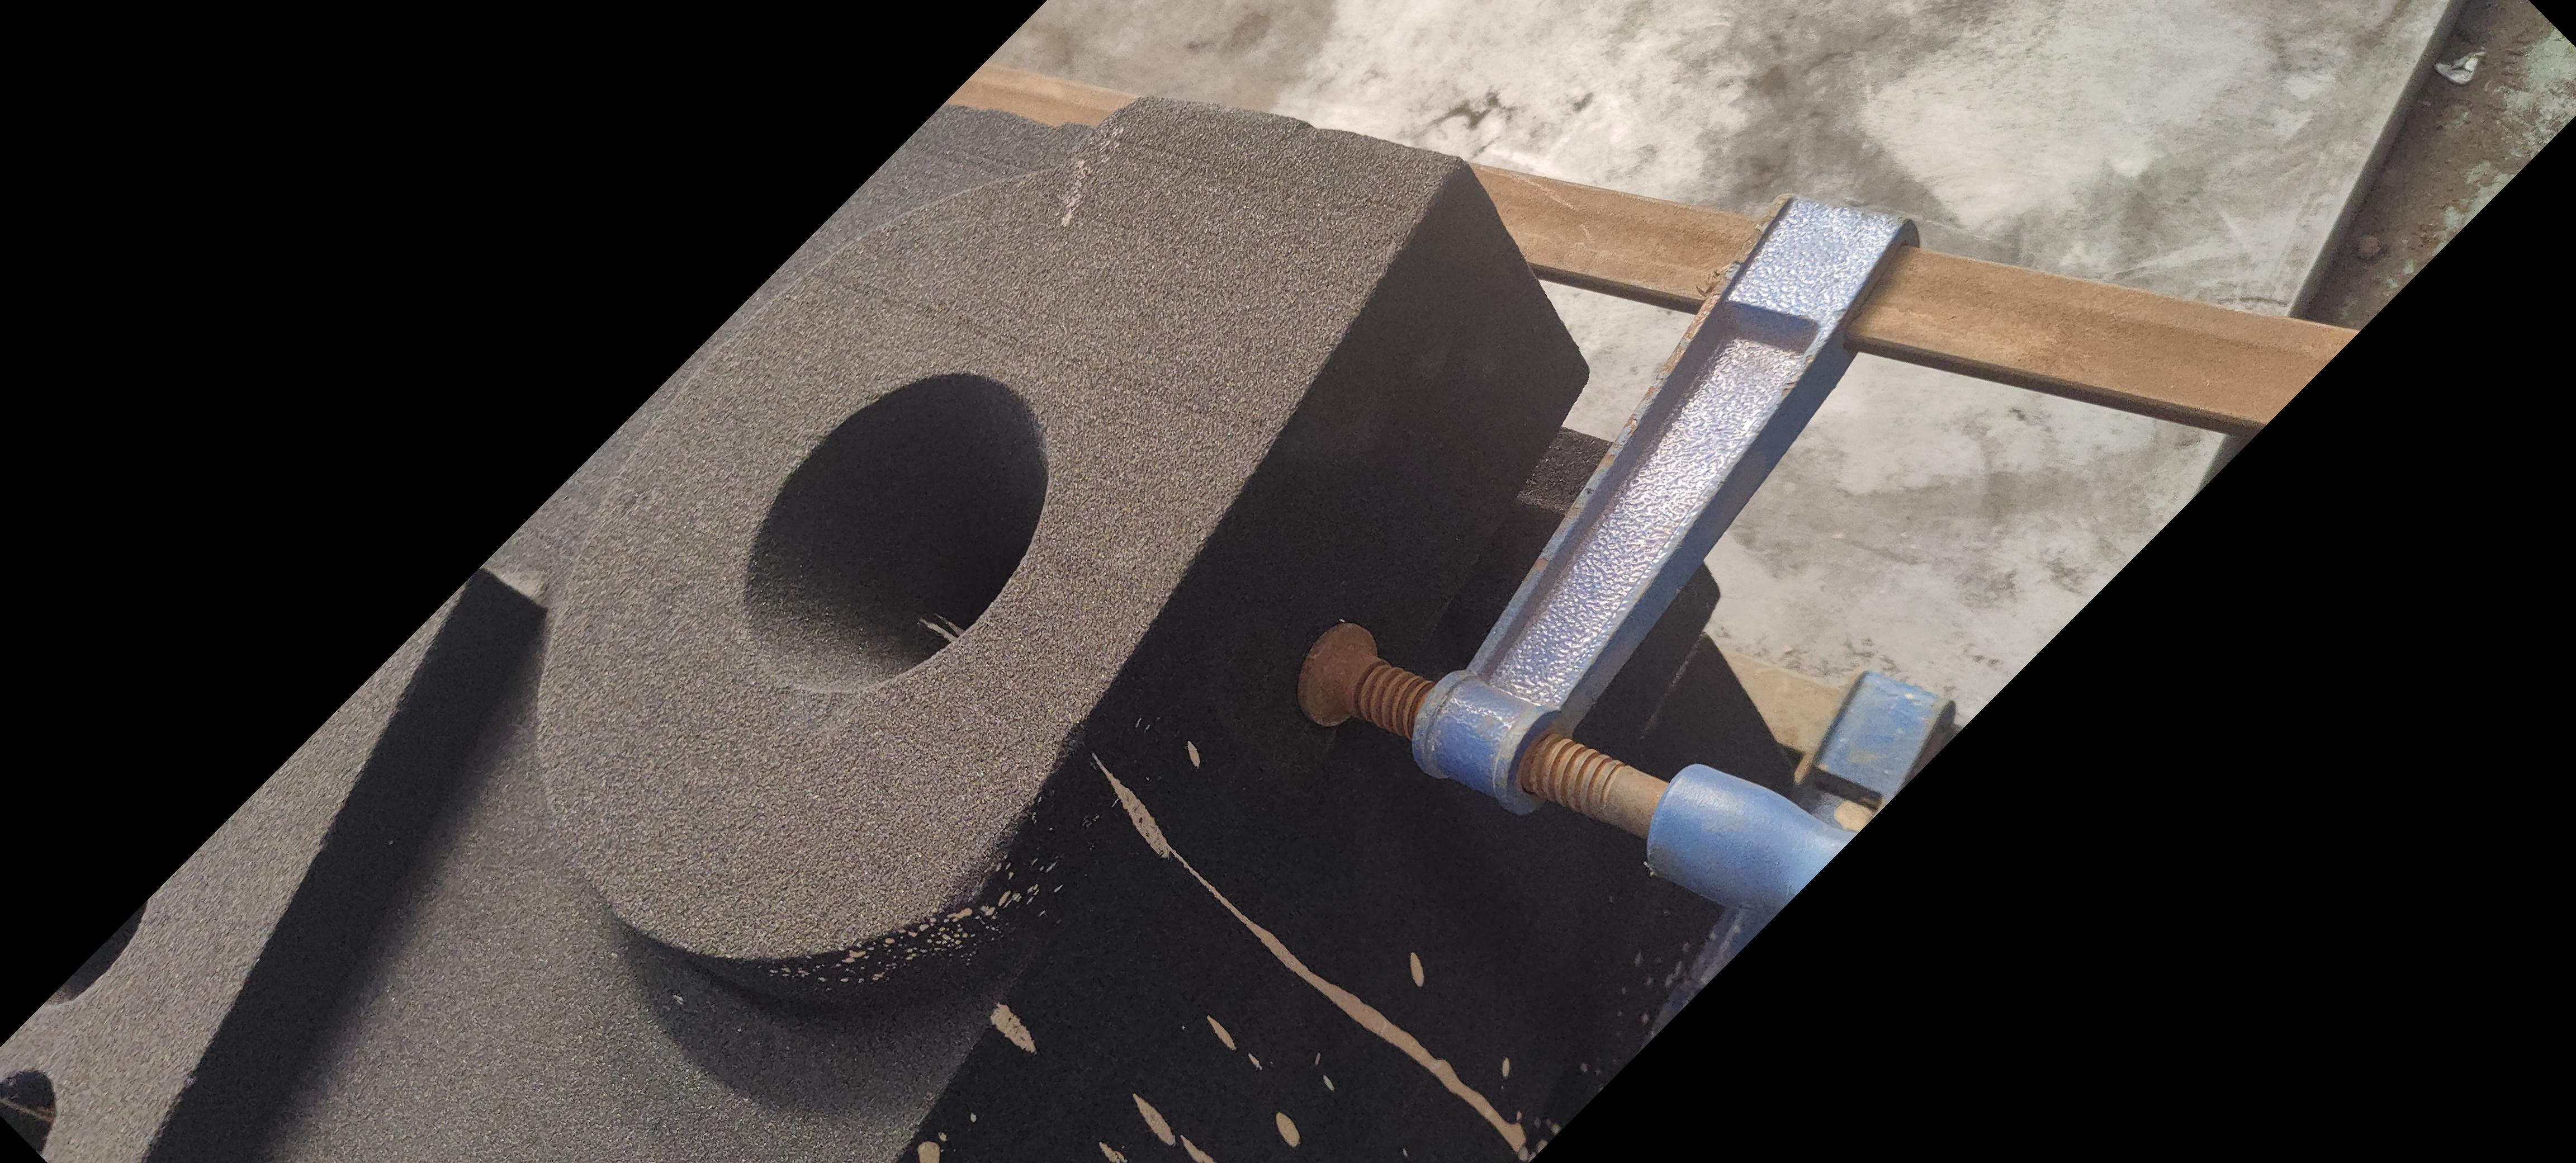pouring hole: (736, 373, 1051, 692)
